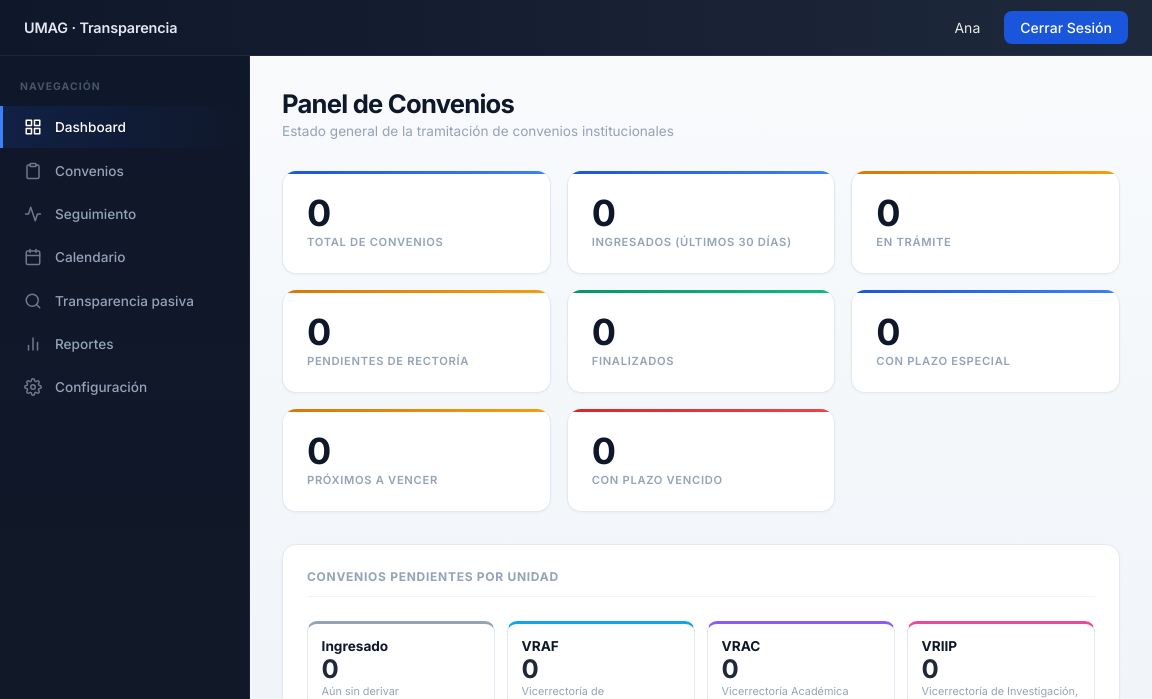
it: planilla sin responder › un fallo al escribir también levanta el aviso
Step 1. Click the text "Configuración" → click(86, 387), box [24,378,147,396]
(page scrolled)
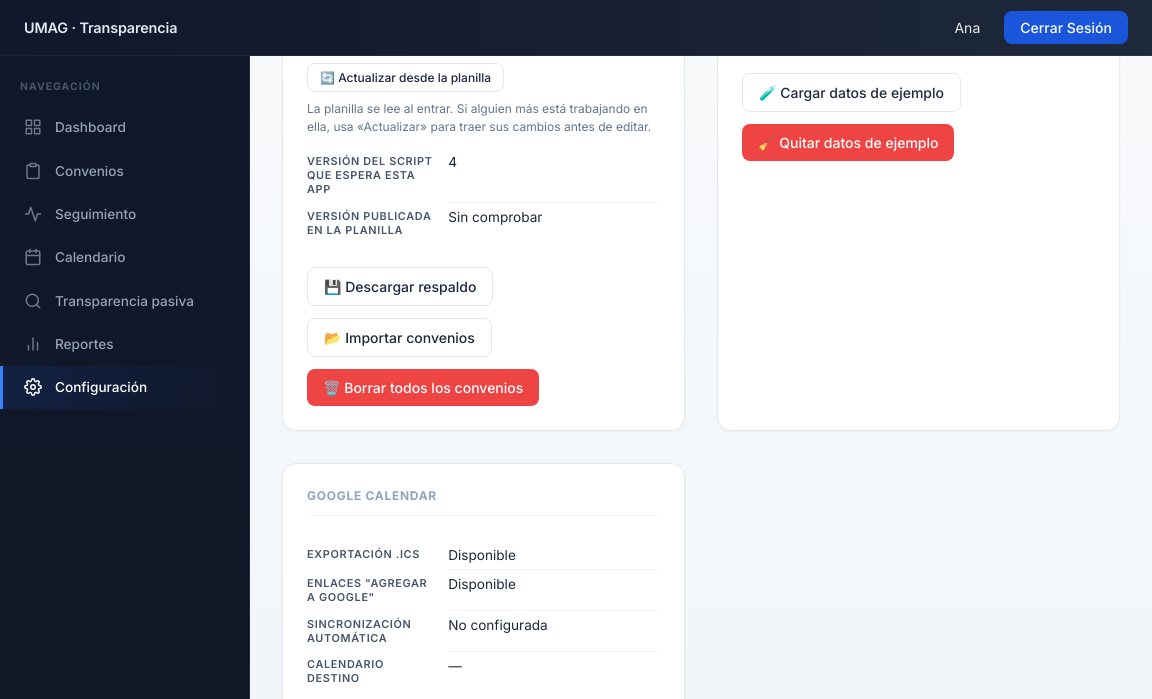
Step 2. Click the button "🗑️ Borrar todos los convenios" → click(423, 388), box [307,369,539,406]
(page scrolled)
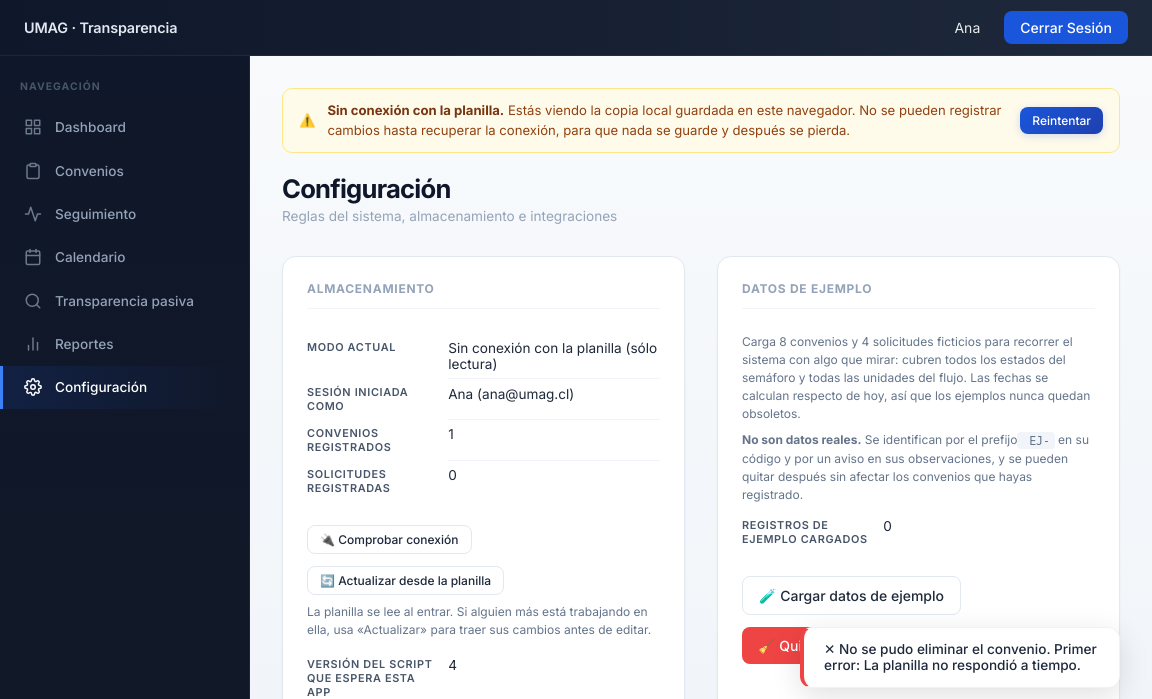
Result: the message with class "aviso-sin-conexion" is shown at [282,88,1120,153]
